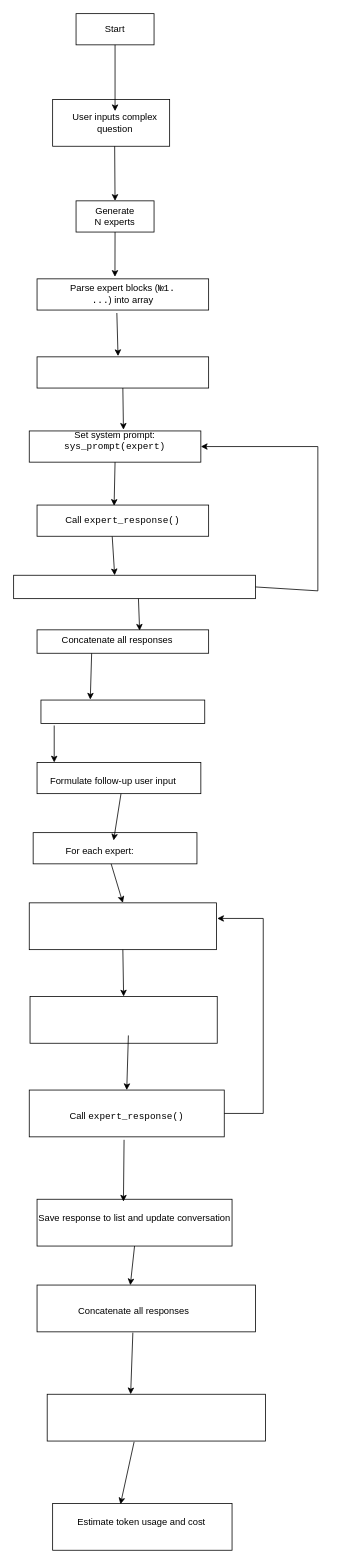
Some shapes in this 338 by 1564 pixel diagram are drawn without their labels. Each missing label, with the centre of its shape:
Add user message with summary1: (123,1019)
For each expert: (122,372)
Modify system prompt (e.g., add "risk-seeking"): (122,926)
Save response to list and append to conversation: (134,586)
Summarize round 1: (122,711)
Summarize round 2: (156,1417)
